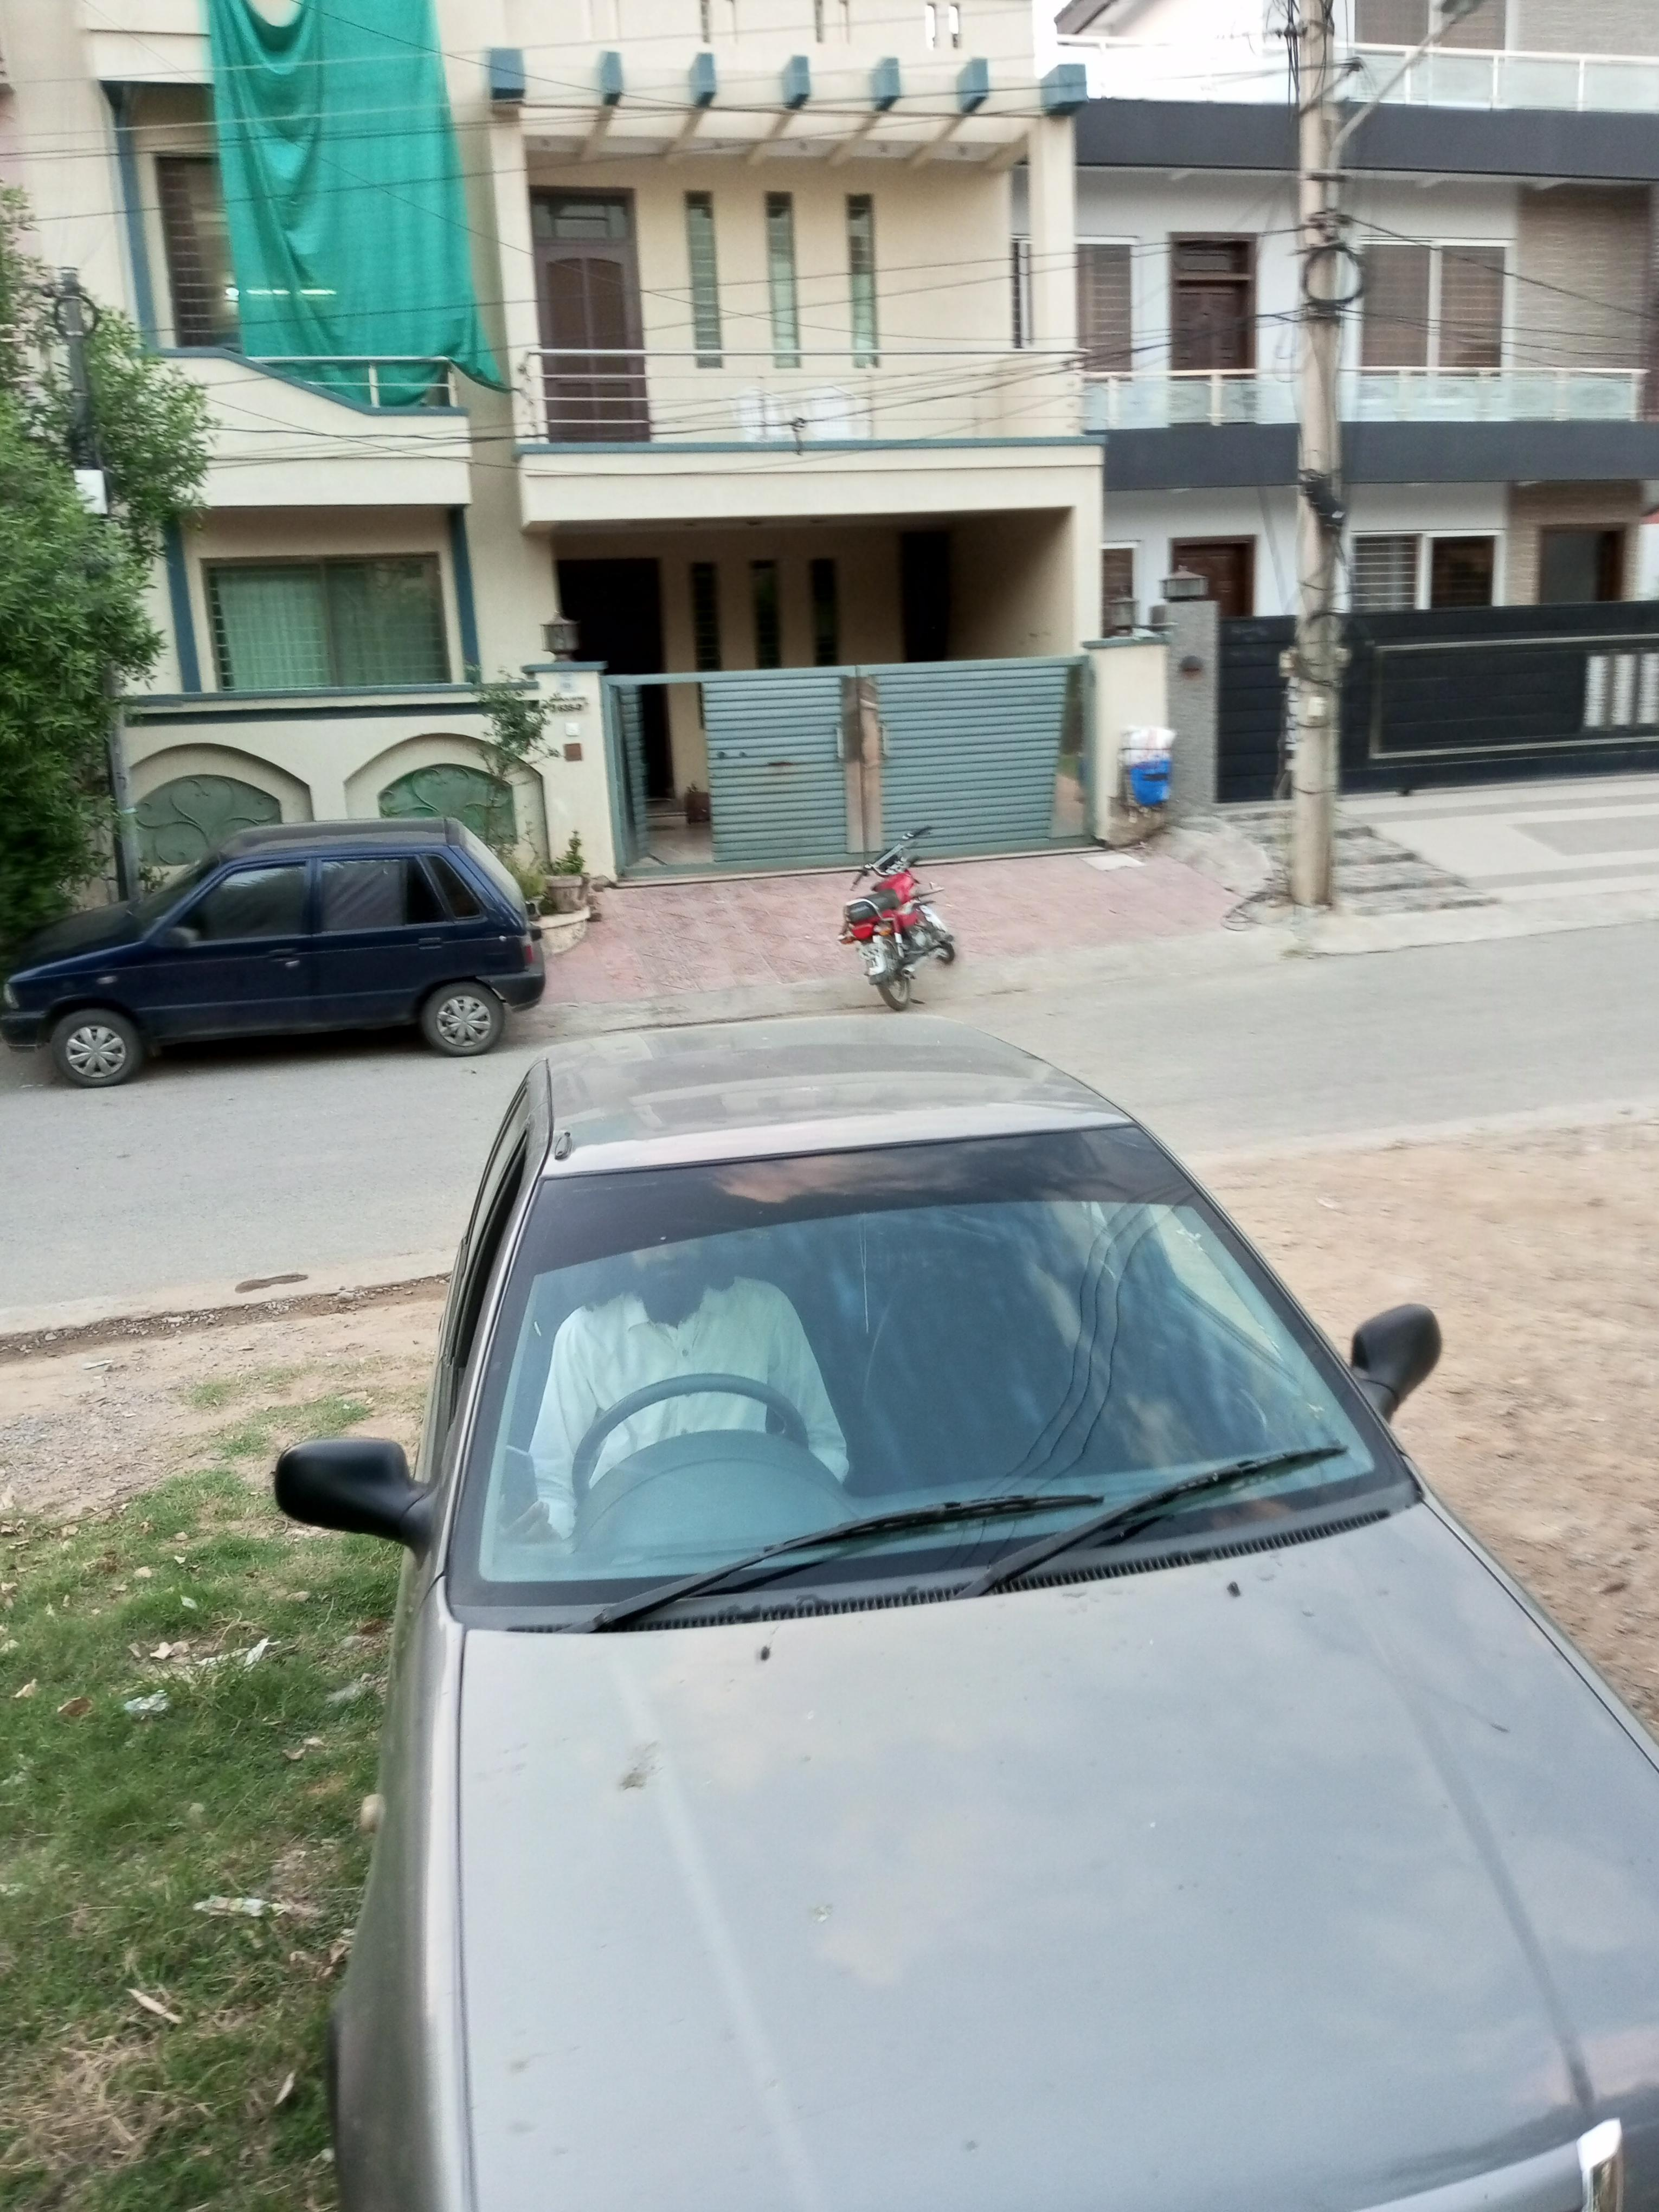windshield: (446, 1106, 1453, 1637)
